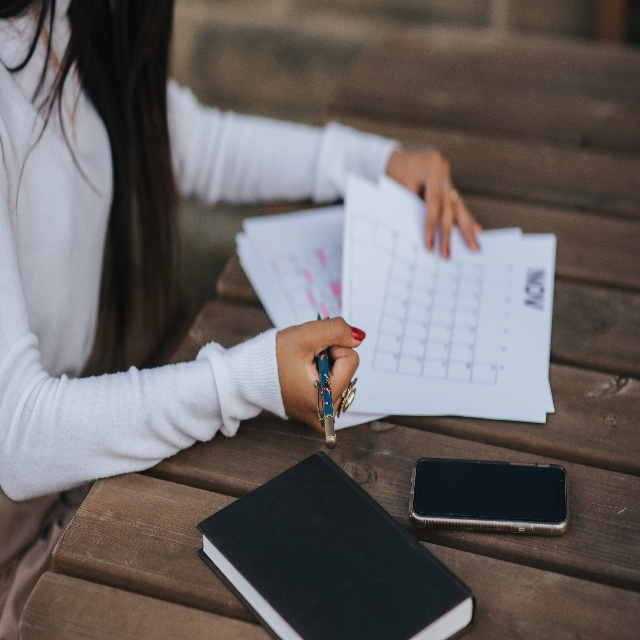Sin_guantes: (270, 312, 366, 435), (388, 143, 482, 257)
